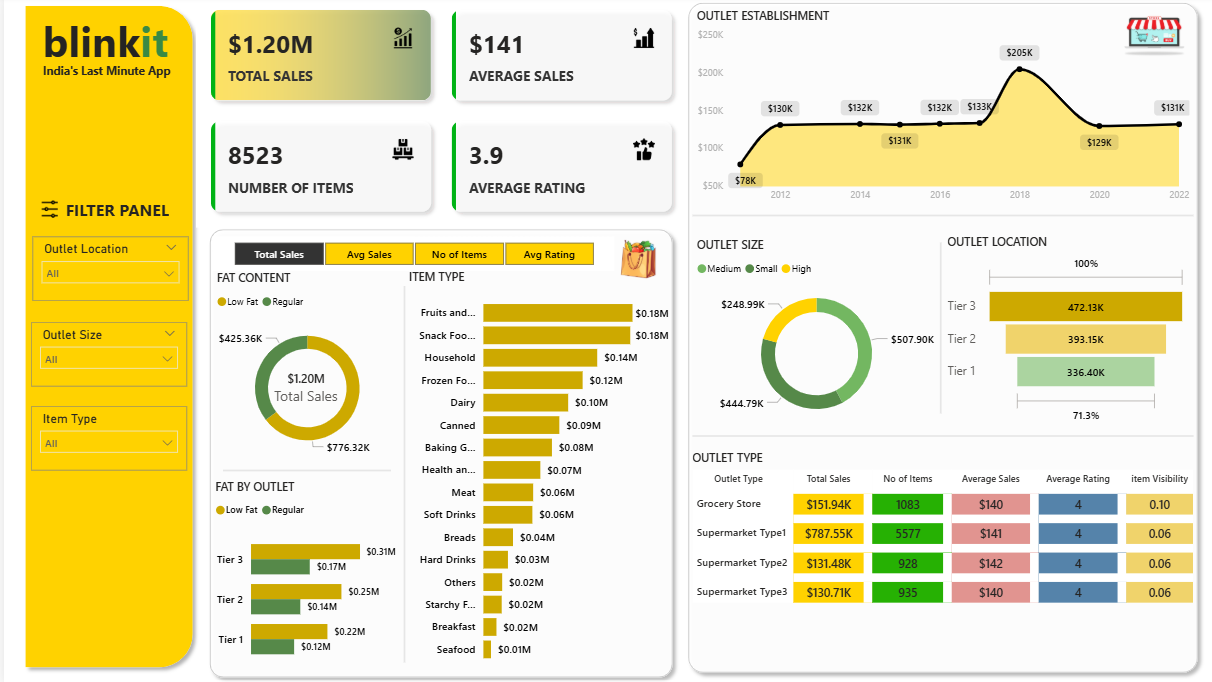

What the dashboard file says about the page in this screenshot:
{"tool":"powerbi","page":{"name":"Page 1","canvas":[1400,800],"ordinal":0},"visuals":[{"type":"shape","box":[15.6,3.5,211.9,784],"z":0},{"type":"textbox","box":[39.9,13.9,165,74.7],"z":1000},{"type":"textbox","box":[39.9,72.9,182.3,29.5],"z":2000},{"type":"cardVisual","fields":{"Data":["BlinkIT Grocery Data.Total Sales","BlinkIT Grocery Data.Average Sales","BlinkIT Grocery Data.Number Of Items","BlinkIT Grocery Data.Average Rating"]},"box":[222.3,0,569.6,269.2],"z":3000},{"type":"shape","box":[229.4,261.9,553.8,536.9],"z":4000},{"type":"pieChart","title":"FAT CONTENT","fields":{"Y":["BlinkIT Grocery Data.Total Sales"],"Category":["BlinkIT Grocery Data.Item Fat Content"]},"box":[241.4,317.8,218.8,229.2],"z":5000},{"type":"slicer","fields":{"Values":["Metrics.Metrics"]},"box":[241.4,279.6,465.4,39.9],"z":6000},{"type":"cardVisual","fields":{"Data":["BlinkIT Grocery Data.Total Sales"]},"box":[293.5,402.9,112.9,102.5],"z":7000},{"type":"clusteredBarChart","title":"FAT BY OUTLET","fields":{"Y":["BlinkIT Grocery Data.Total Sales"],"Category":["BlinkIT Grocery Data.Outlet Location Type"],"Series":["BlinkIT Grocery Data.Item Fat Content"]},"box":[239.7,559.2,218.8,229.2],"z":8000},{"type":"shape","box":[253.6,505.4,194.5,90.3],"z":9000},{"type":"shape","box":[404.6,336.9,118.1,435.9],"z":10000},{"type":"barChart","title":"ITEM TYPE","fields":{"Y":["BlinkIT Grocery Data.Total Sales"],"Category":["BlinkIT Grocery Data.Item Type"]},"box":[463.7,316.1,310.9,467.2],"z":11000},{"type":"shape","title":"OUTLET ","box":[783.2,0,607.8,793.7],"z":12000},{"type":"lineChart","title":"OUTLET ESTABLISHMENT","fields":{"Category":["BlinkIT Grocery Data.Outlet Establishment Year"],"Y":["BlinkIT Grocery Data.Total Sales"]},"box":[797.1,13.9,580,234.4],"z":13000},{"type":"shape","box":[797.1,224,580,62.5],"z":14000},{"type":"pieChart","title":"OUTLET SIZE","fields":{"Y":["BlinkIT Grocery Data.Total Sales"],"Category":["BlinkIT Grocery Data.Outlet Size"]},"box":[797.1,279.6,286.5,225.8],"z":15000},{"type":"shape","box":[974.3,286.5,220.6,198],"z":16000},{"type":"funnel","title":"OUTLET LOCATION","fields":{"Category":["BlinkIT Grocery Data.Outlet Location Type"],"Y":["Sum(BlinkIT Grocery Data.Sales)"]},"box":[1087.1,276.1,286.5,225.8],"z":17000},{"type":"shape","box":[797.1,429,580,163.2],"z":18000},{"type":"pivotTable","title":"OUTLET TYPE","fields":{"Values":["BlinkIT Grocery Data.Total Sales","BlinkIT Grocery Data.No Of Items","BlinkIT Grocery Data.Average Sales","BlinkIT Grocery Data.Average Rating","Avg(BlinkIT Grocery Data.Item Visibility)"],"Rows":["BlinkIT Grocery Data.Outlet Type"]},"box":[791.9,526.2,599.1,270.9],"z":19000},{"type":"slicer","fields":{"Values":["BlinkIT Grocery Data.Outlet Size"]},"box":[31.3,378.6,180.6,74.7],"z":20000},{"type":"slicer","fields":{"Values":["BlinkIT Grocery Data.Outlet Location Type"]},"box":[33,279.6,180.6,74.7],"z":21000},{"type":"slicer","fields":{"Values":["BlinkIT Grocery Data.Item Type"]},"box":[31.3,475.8,180.6,74.7],"z":22000},{"type":"textbox","box":[15.6,231,180.6,34.7],"z":23000},{"type":"image","box":[31.3,231,43.4,34.7],"z":24000},{"type":"image","box":[1286.9,0,90.3,88.6],"z":25000},{"type":"image","box":[677.3,276.1,114.6,59],"z":26000}]}

Visuals, with their boxes in screenshot pixels (x1, y1, x2, y2), scaled from the page's 1400x800 canvas onto the 1212x682 screenshot:
shape: (left=14, top=3, right=197, bottom=671)
textbox: (left=35, top=12, right=177, bottom=76)
textbox: (left=35, top=62, right=192, bottom=87)
cardVisual - BlinkIT Grocery Data.Total Sales x BlinkIT Grocery Data.Average Sales: (left=192, top=0, right=686, bottom=229)
shape: (left=199, top=223, right=678, bottom=681)
"FAT CONTENT" pieChart: (left=209, top=271, right=398, bottom=466)
slicer - Metrics.Metrics: (left=209, top=238, right=612, bottom=272)
cardVisual - BlinkIT Grocery Data.Total Sales: (left=254, top=343, right=352, bottom=431)
"FAT BY OUTLET" clusteredBarChart: (left=208, top=477, right=397, bottom=672)
shape: (left=220, top=431, right=388, bottom=508)
shape: (left=350, top=287, right=453, bottom=659)
"ITEM TYPE" barChart: (left=401, top=269, right=671, bottom=668)
"OUTLET " shape: (left=678, top=0, right=1204, bottom=677)
"OUTLET ESTABLISHMENT" lineChart: (left=690, top=12, right=1192, bottom=212)
shape: (left=690, top=191, right=1192, bottom=244)
"OUTLET SIZE" pieChart: (left=690, top=238, right=938, bottom=431)
shape: (left=843, top=244, right=1034, bottom=413)
"OUTLET LOCATION" funnel: (left=941, top=235, right=1189, bottom=428)
shape: (left=690, top=366, right=1192, bottom=505)
"OUTLET TYPE" pivotTable: (left=686, top=449, right=1204, bottom=680)
slicer - BlinkIT Grocery Data.Outlet Size: (left=27, top=323, right=183, bottom=386)
slicer - BlinkIT Grocery Data.Outlet Location Type: (left=29, top=238, right=185, bottom=302)
slicer - BlinkIT Grocery Data.Item Type: (left=27, top=406, right=183, bottom=469)
textbox: (left=14, top=197, right=170, bottom=227)
image: (left=27, top=197, right=65, bottom=227)
image: (left=1114, top=0, right=1192, bottom=76)
image: (left=586, top=235, right=686, bottom=286)
